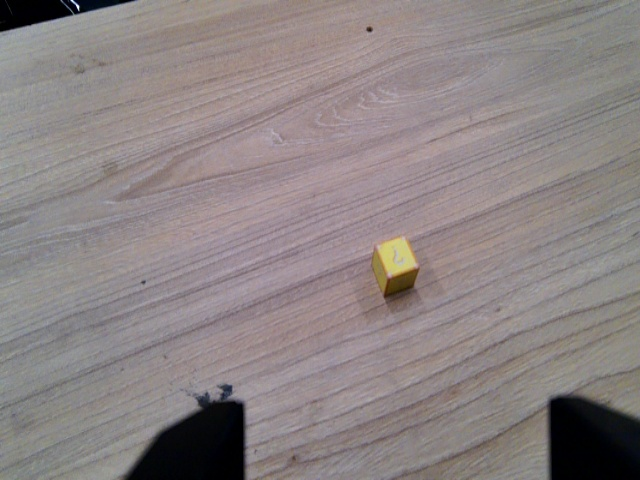lucky: (367, 233, 425, 301)
